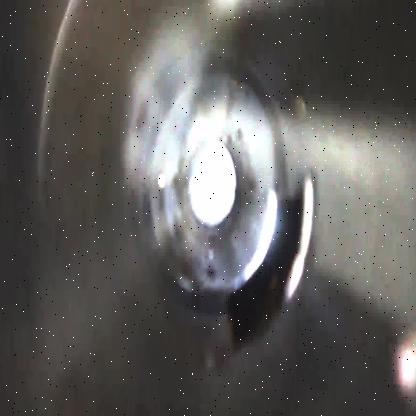Crack2: (229, 174, 314, 349)
